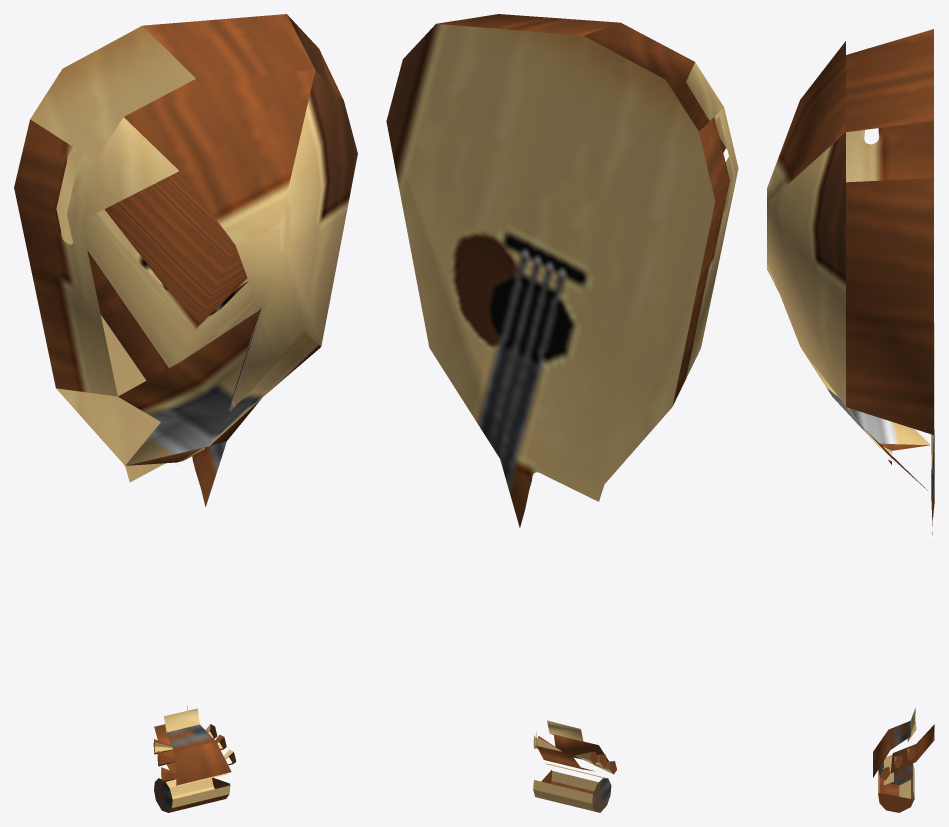
Rendered from lute.fbx.
3 views of the same model, side by side, from view 1: azimuth 30°, elevation 25°; view 2: azimuth 150°, elevation 25°; view 3: azimuth 270°, elevation 25° (orthographic). The views are drawn at different scales.
Visible parts, largest first — view 1: Guitar_Acoustic; view 2: Guitar_Acoustic; view 3: Guitar_Acoustic.
Boxes of the visible parts, x1=… form: Guitar_Acoustic: x1=14, y1=14, x2=357, y2=812; Guitar_Acoustic: x1=386, y1=14, x2=738, y2=812; Guitar_Acoustic: x1=767, y1=29, x2=934, y2=812.
Size of the model in its own units: 23.43 by 53.84 by 10.84.
